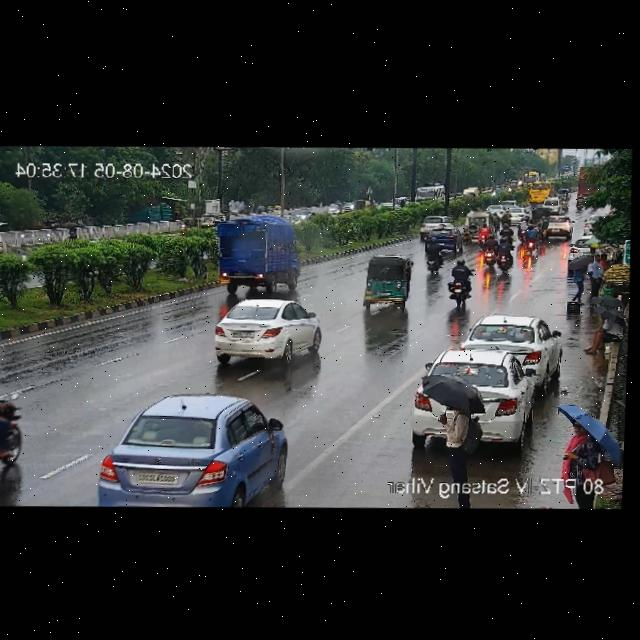bus: (414, 182, 443, 205), (528, 178, 550, 202)
car: (96, 391, 289, 510), (419, 348, 538, 436), (212, 294, 330, 364), (466, 312, 561, 375), (358, 252, 417, 310), (427, 225, 465, 253), (416, 214, 450, 236), (458, 212, 480, 241), (549, 213, 573, 239), (569, 234, 591, 255), (511, 206, 526, 218)
motorcycle: (0, 384, 24, 472), (446, 257, 470, 305), (419, 241, 446, 275), (480, 234, 497, 270), (496, 237, 511, 271), (524, 224, 538, 254), (478, 221, 489, 249), (517, 216, 529, 240), (498, 223, 512, 241), (539, 215, 547, 240), (491, 211, 500, 233), (501, 209, 510, 225)
person: (433, 397, 478, 483), (556, 418, 596, 482), (565, 250, 606, 298), (583, 319, 623, 355)
truck: (205, 208, 295, 293)
